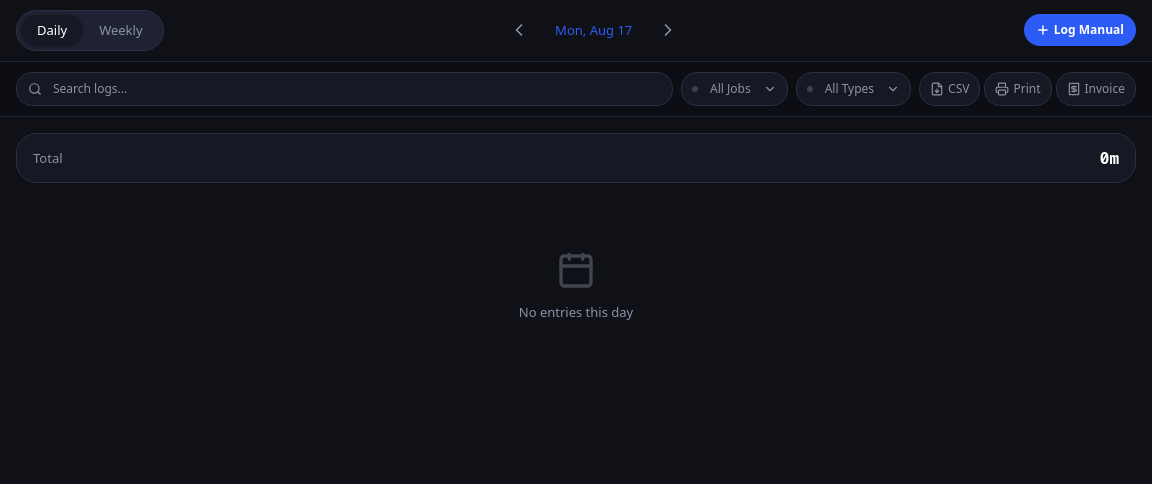
it: TimesheetsView — period navigation › shows previous/next week buttons after switching to weekly tab
Click the button "weekly": (121, 30) [83,15,158,46]
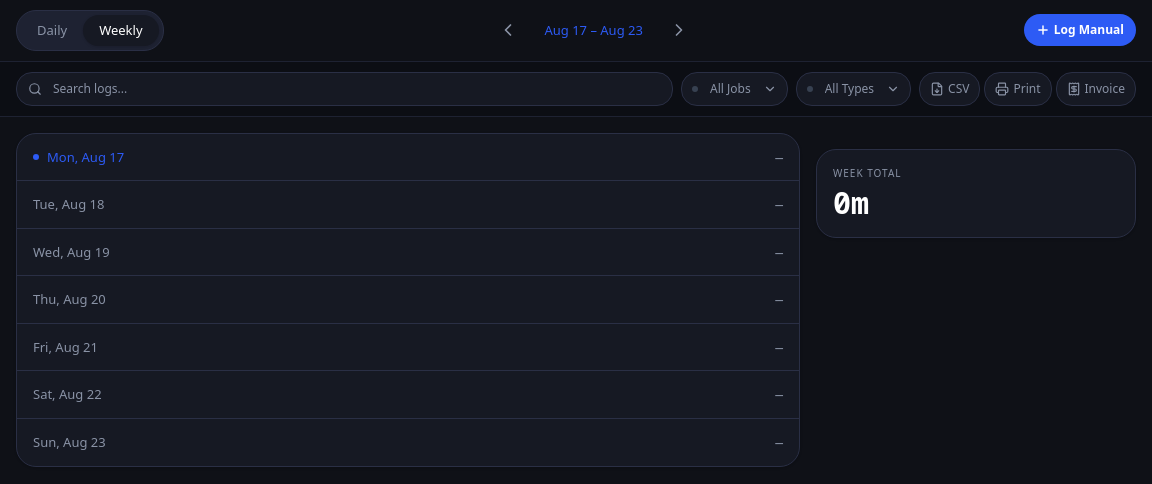
Check: the button named "previous week" is shown, box [488,10,528,50]
Check: the button named "next week" is shown, box [659,10,699,50]
